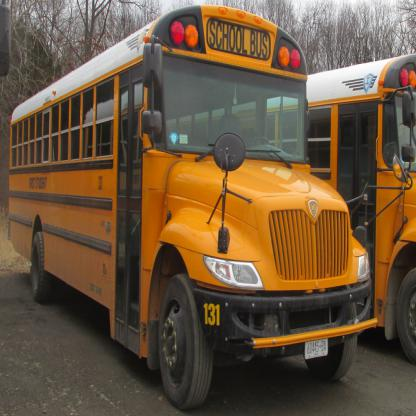Bus: (7, 4, 381, 410), (157, 53, 416, 366)
